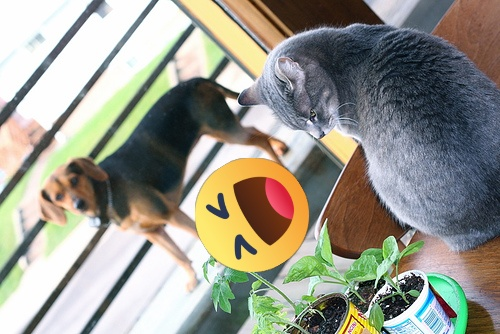haha: (195, 158, 309, 272)
